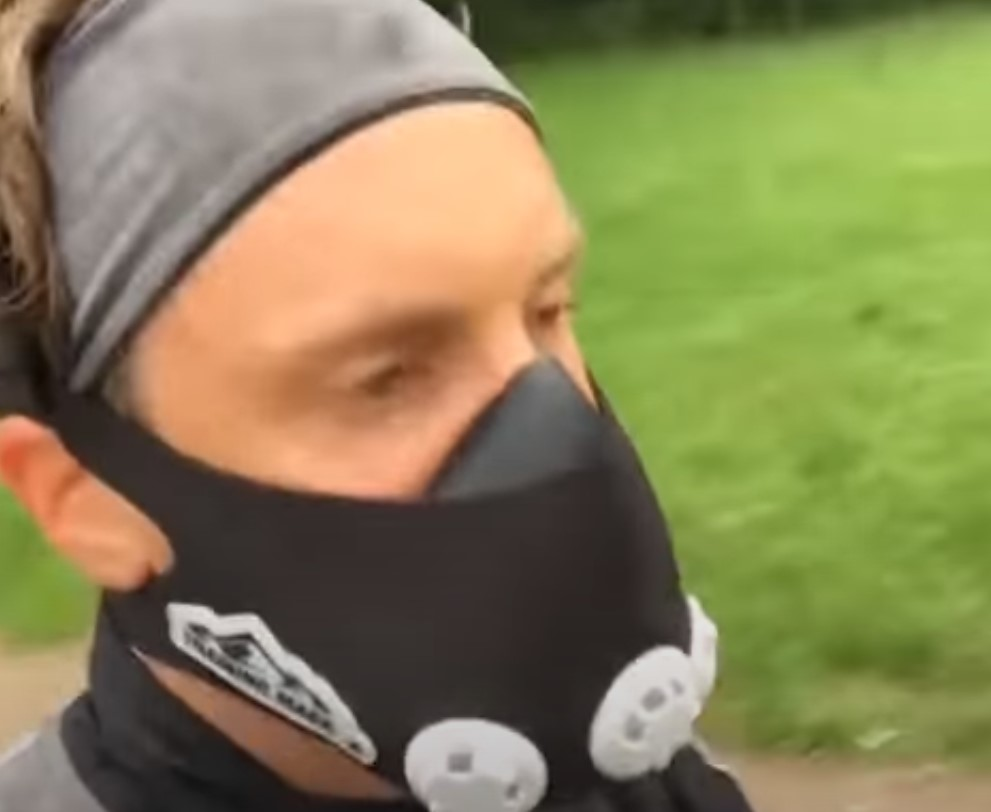face_with_mask: (2, 1, 727, 810)
